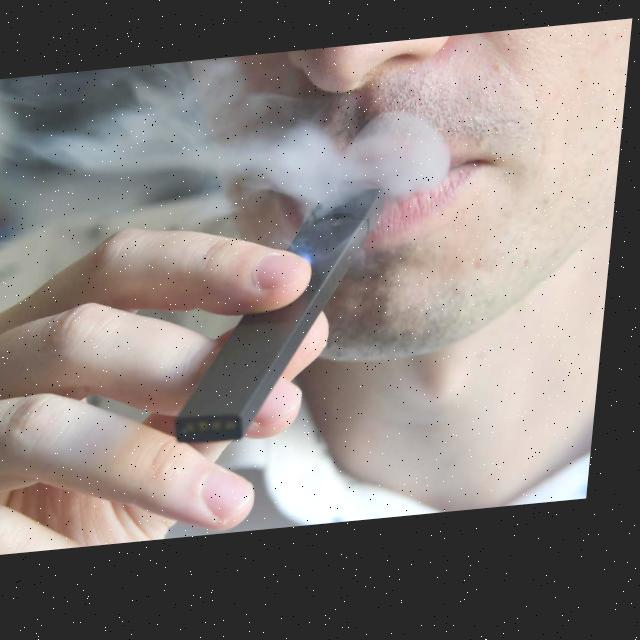vape: (185, 194, 391, 451)
